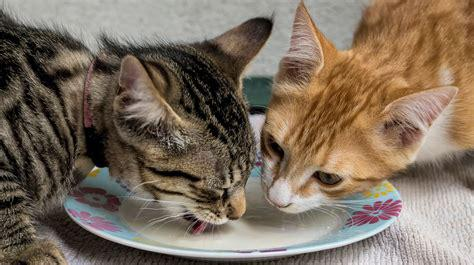cat: (1, 12, 272, 265), (259, 1, 474, 213)
